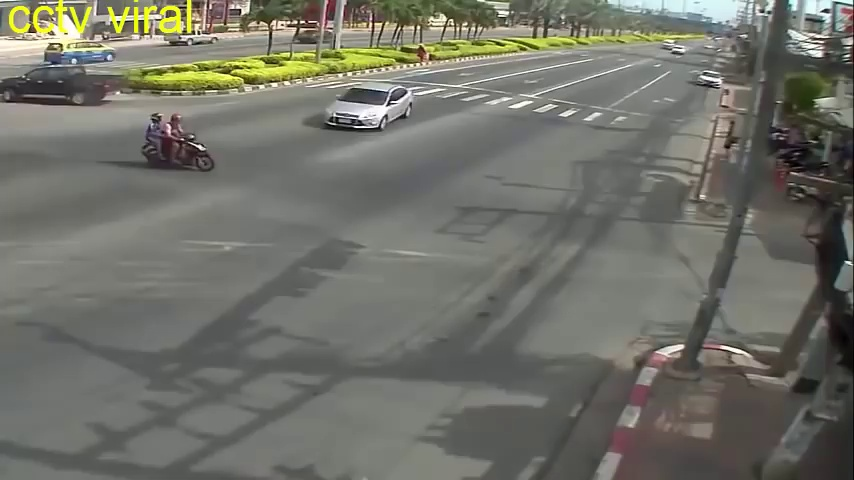car: (1, 62, 118, 107), (317, 81, 412, 133), (41, 40, 116, 68), (698, 67, 725, 90)
motorbike: (145, 111, 215, 175)
